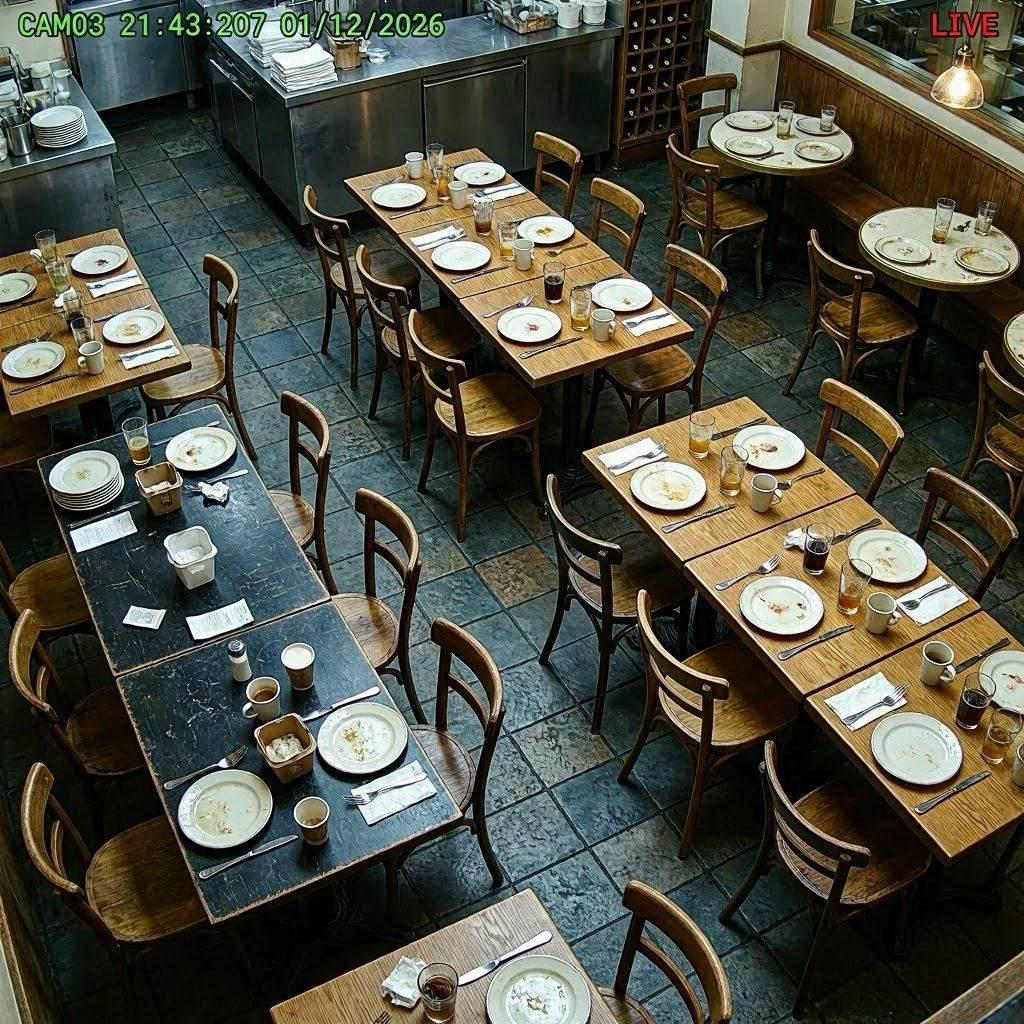dirty: (561, 399, 1024, 839), (16, 428, 424, 874), (343, 130, 692, 386), (4, 210, 179, 402), (316, 945, 593, 1024), (841, 196, 1019, 313), (681, 85, 875, 188)
